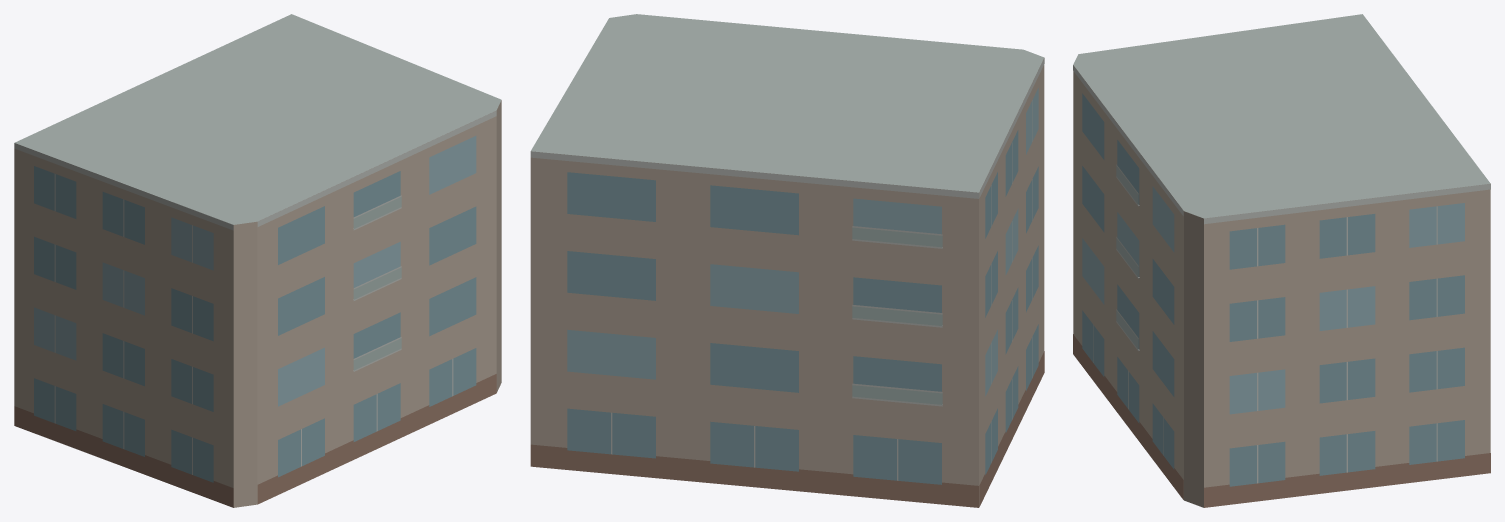
Rendered from survey-upis-33016186.glb.
3 renders of one model, left to right at view 1: azimuth 30°, elevation 25°; view 2: azimuth 150°, elevation 25°; view 3: azimuth 270°, elevation 25°, orthographic. The views are drawn at different scales.
Visible parts, largest first — view 1: survey-upis-33016186.tmp; view 2: survey-upis-33016186.tmp; view 3: survey-upis-33016186.tmp.
Part boxes in pixels (x1,y1,x2,y2): survey-upis-33016186.tmp: (14, 14, 501, 507); survey-upis-33016186.tmp: (530, 14, 1044, 507); survey-upis-33016186.tmp: (1073, 14, 1490, 507).
Bounding box in the file's own units: 18.5 × 12.2 × 15.97.
